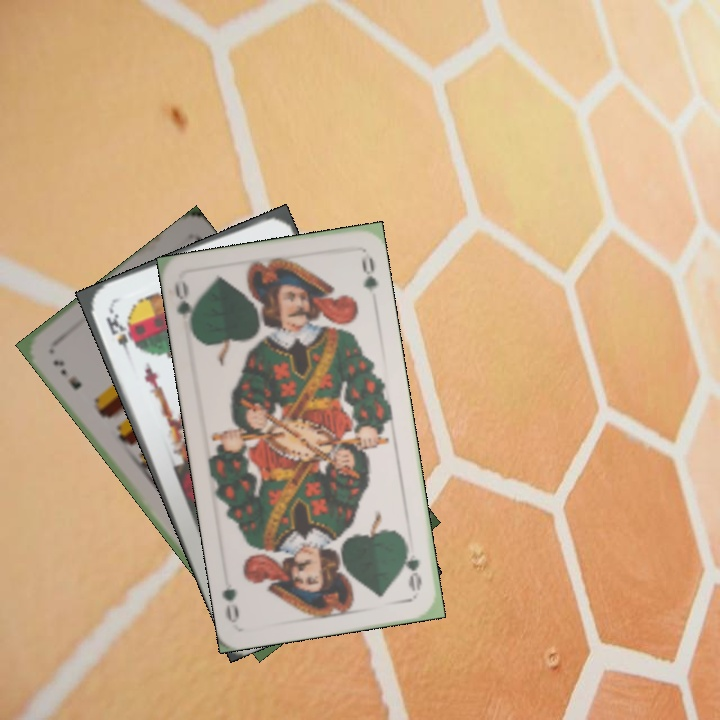E7: (49, 355, 84, 393)
GO: (171, 278, 200, 338), (400, 537, 425, 594)
SK: (102, 304, 134, 362)
